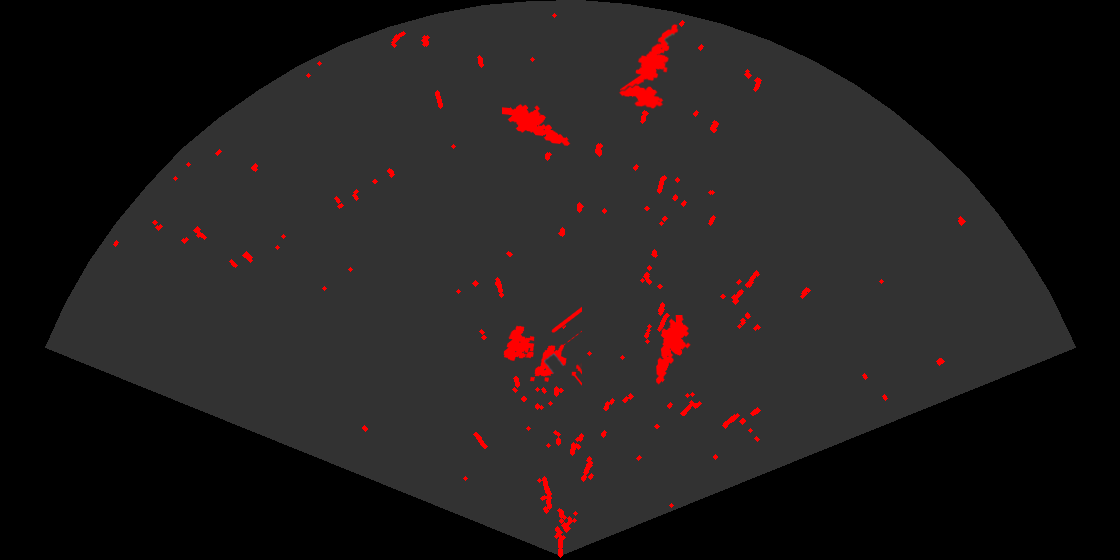AUV: (617, 83, 665, 110)
cage: (502, 305, 582, 387)
frogman: (620, 22, 680, 92), (502, 103, 572, 147), (654, 315, 692, 386)
